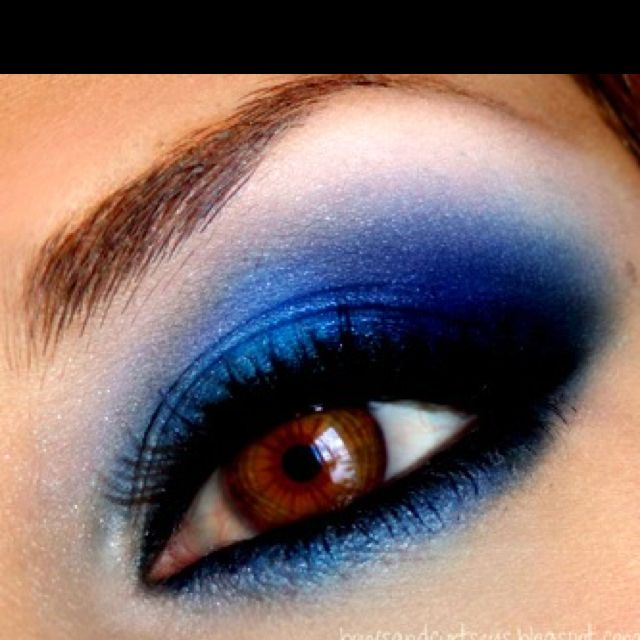iris: (215, 386, 388, 535)
pupil: (279, 443, 321, 482)
